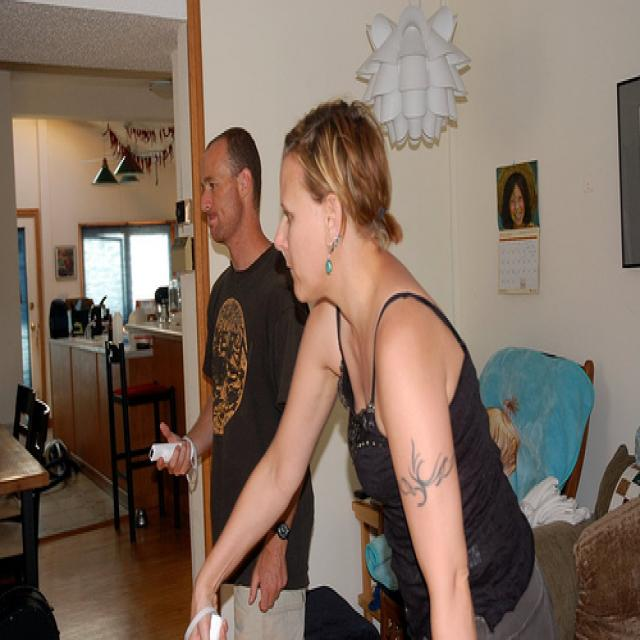chair: (477, 342, 595, 500), (104, 339, 181, 543), (13, 386, 50, 464)
dining table: (0, 431, 42, 590)
